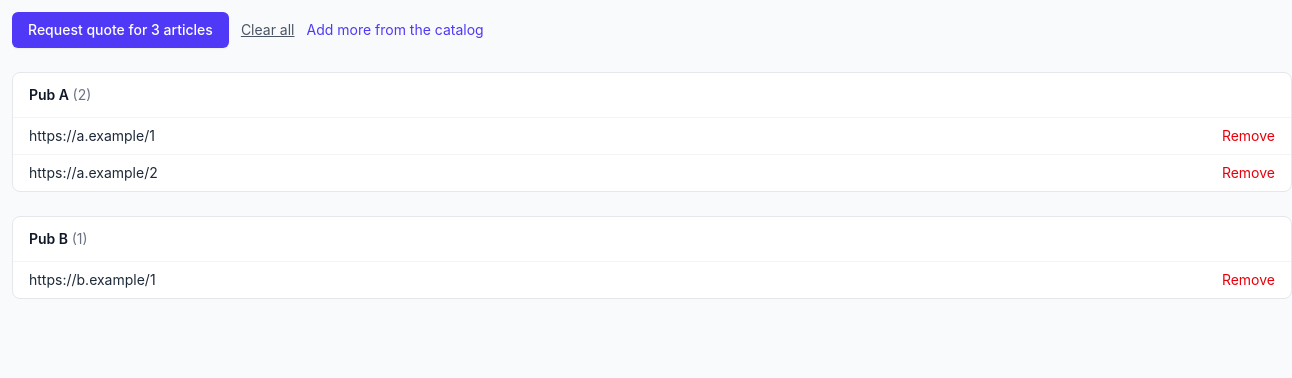
ExportReview › shows a network error
The width and height of the screenshot is (1292, 378).
Click the button "Request quote for 3 articles": [120, 30] box 12,12 -> 229,48
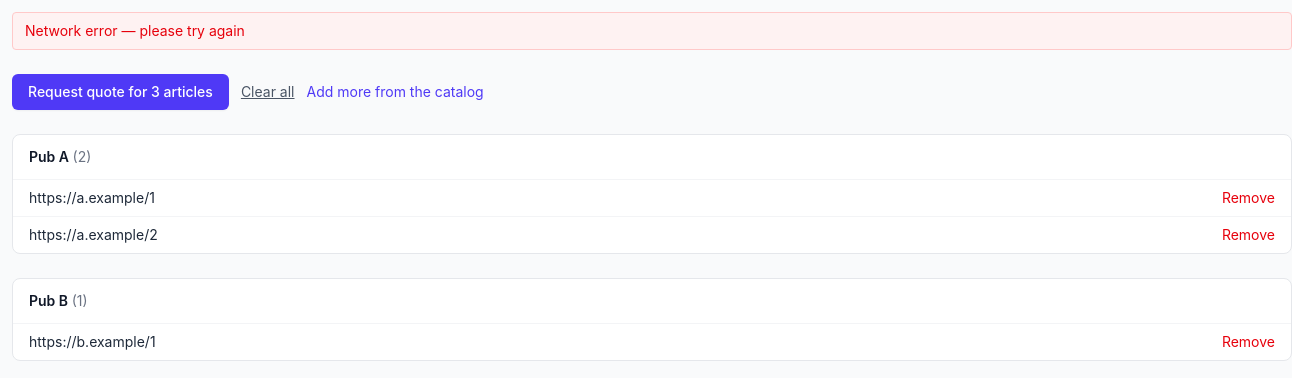
Check: the message shows "Network error", box 25,22 -> 245,39
